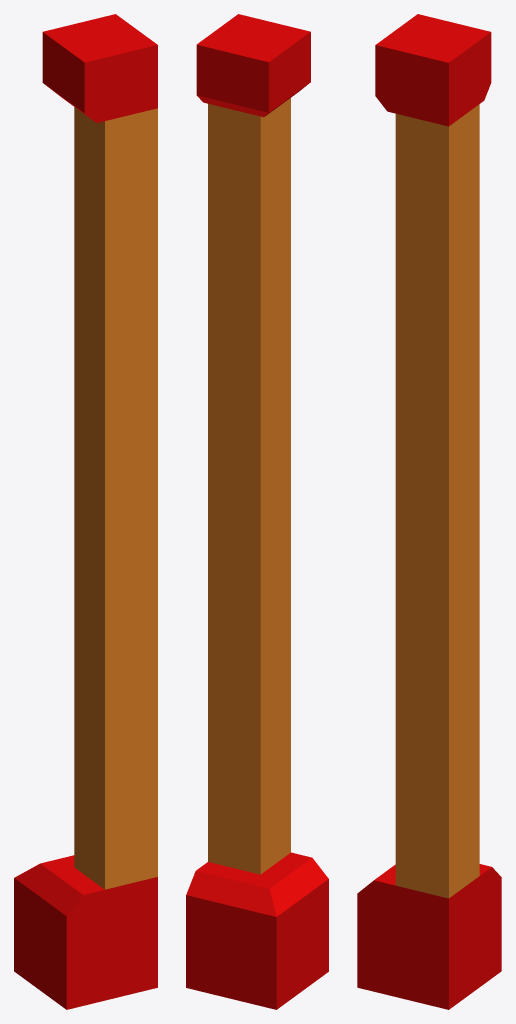
File: Phillar_small_1.fbx
3 views of the same model, side by side, from view 1: azimuth 30°, elevation 25°; view 2: azimuth 150°, elevation 25°; view 3: azimuth 330°, elevation 25° (orthographic).
Visible parts, largest first — view 1: Cube.015; view 2: Cube.015; view 3: Cube.015.
Part boxes in pixels (x1,y1,x2,y2): Cube.015: [14, 14, 157, 1009]; Cube.015: [186, 14, 328, 1009]; Cube.015: [357, 14, 501, 1009].
Size of the model in its own units: 0.43 by 0.43 by 4.25.
